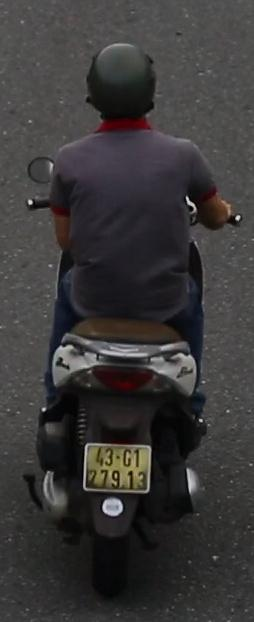LP: (80, 438, 154, 499)
helmet: (82, 37, 160, 143)
